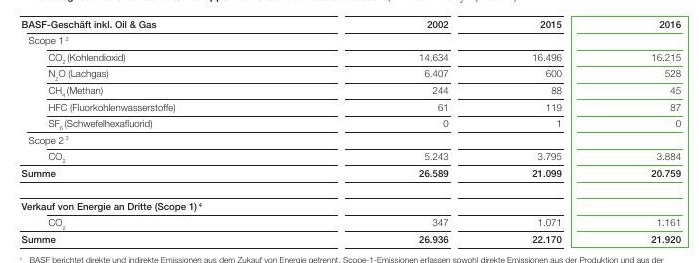table: (0, 0, 699, 263)
